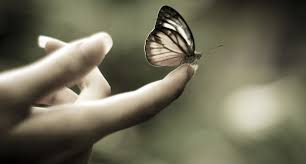Butterfly: (143, 4, 207, 69)
